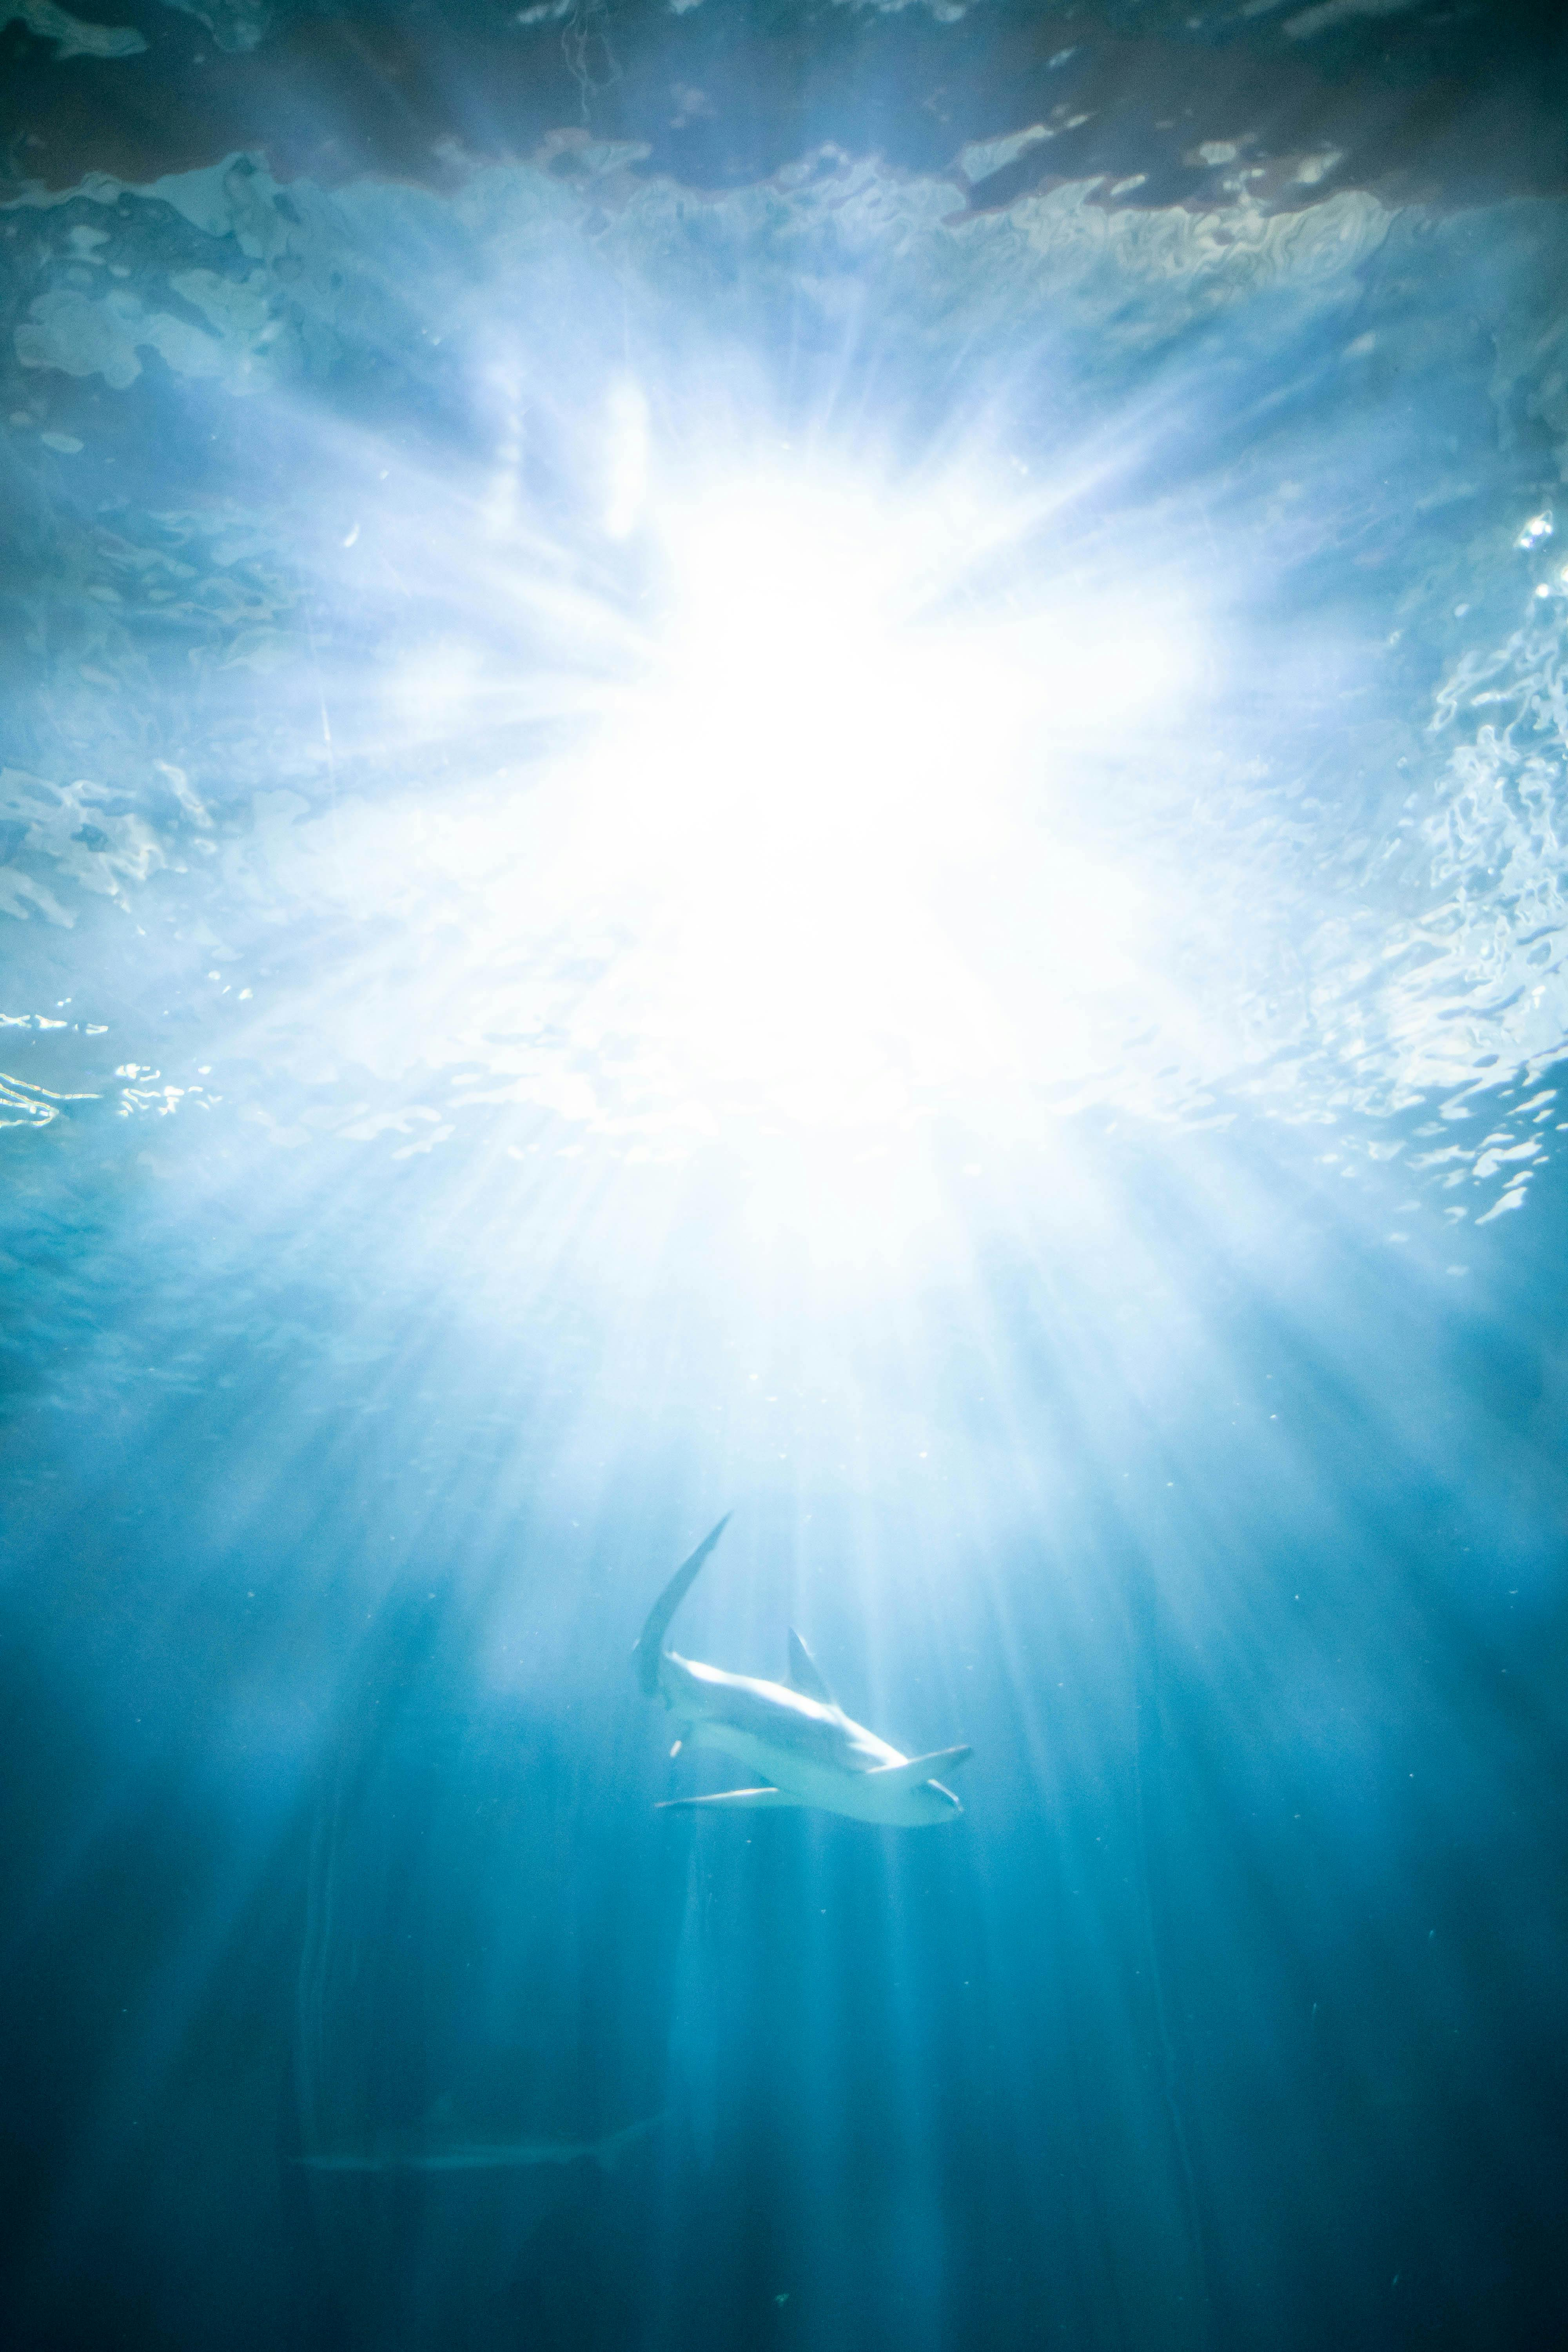shark: (604, 1507, 975, 1829), (278, 2077, 679, 2186)
